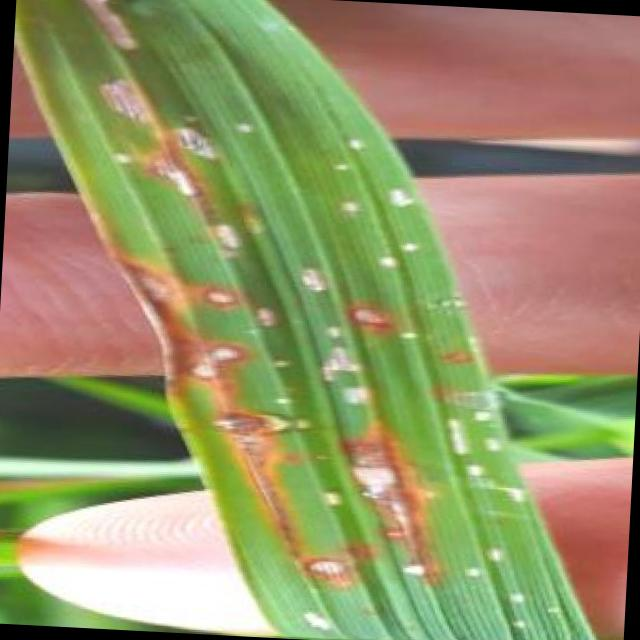Rice_Blast: (105, 243, 218, 395), (276, 504, 380, 607), (330, 425, 428, 533), (95, 136, 205, 222), (322, 284, 412, 359), (161, 94, 236, 181), (85, 71, 171, 126), (65, 0, 151, 54), (192, 260, 255, 325), (190, 195, 246, 268), (202, 310, 254, 376), (206, 382, 264, 441), (178, 338, 220, 396), (310, 465, 353, 518)
